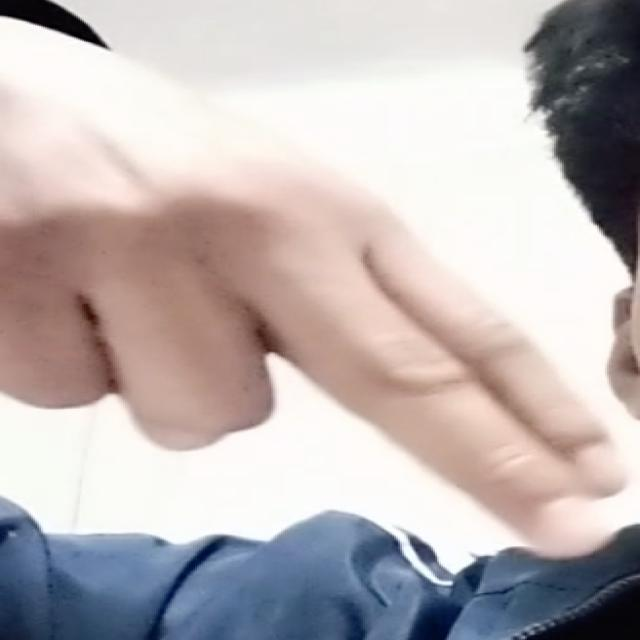N: (2, 10, 633, 566)
